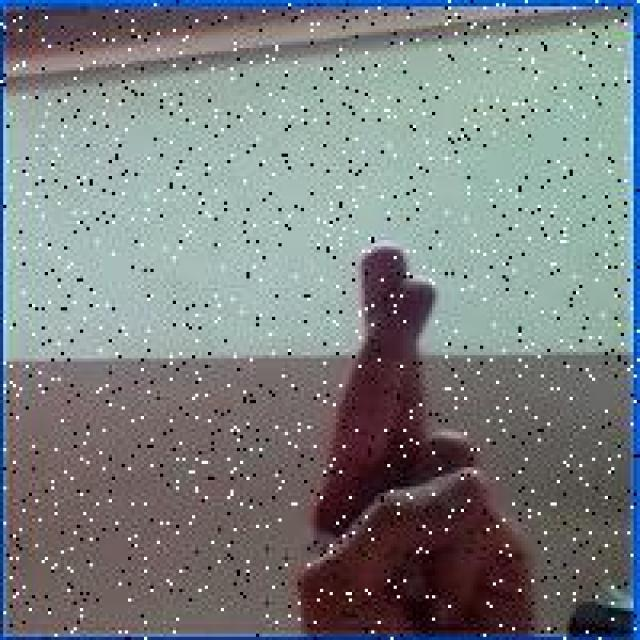R: (285, 235, 541, 632)
